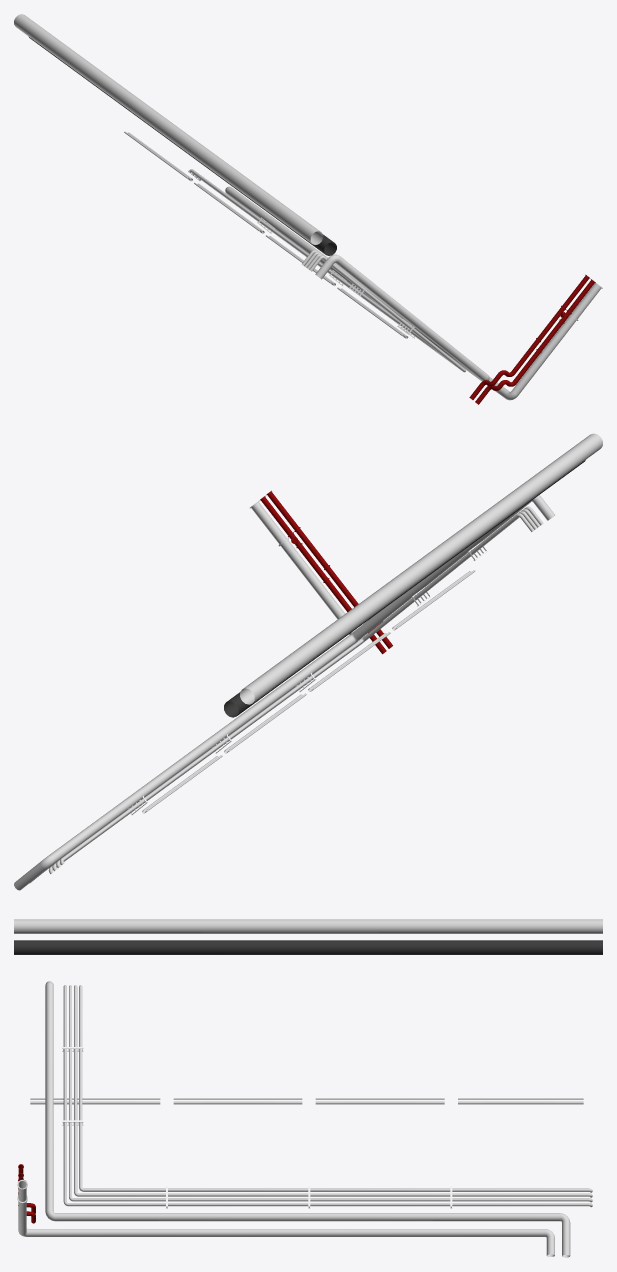
File: SM_H_Building_Tide_WaterDungeon_03b_ATLAS.fbx
3 renders of one model, top to bottom at view 1: azimuth 30°, elevation 25°; view 2: azimuth 150°, elevation 25°; view 3: azimuth 270°, elevation 25°, orthographic. The views are drawn at different scales.
Visible parts, largest first — view 1: SM_H_Building_Tide_WaterDungeon_03b_ATLAS_LOD0; view 2: SM_H_Building_Tide_WaterDungeon_03b_ATLAS_LOD0; view 3: SM_H_Building_Tide_WaterDungeon_03b_ATLAS_LOD0.
Boxes of the visible parts, x1,y1,x2,y2 form: SM_H_Building_Tide_WaterDungeon_03b_ATLAS_LOD0: (14,14,602,404); SM_H_Building_Tide_WaterDungeon_03b_ATLAS_LOD0: (14,433,602,890); SM_H_Building_Tide_WaterDungeon_03b_ATLAS_LOD0: (14,919,602,1257).
Size of the model in its own units: 979 by 1700 by 749.
